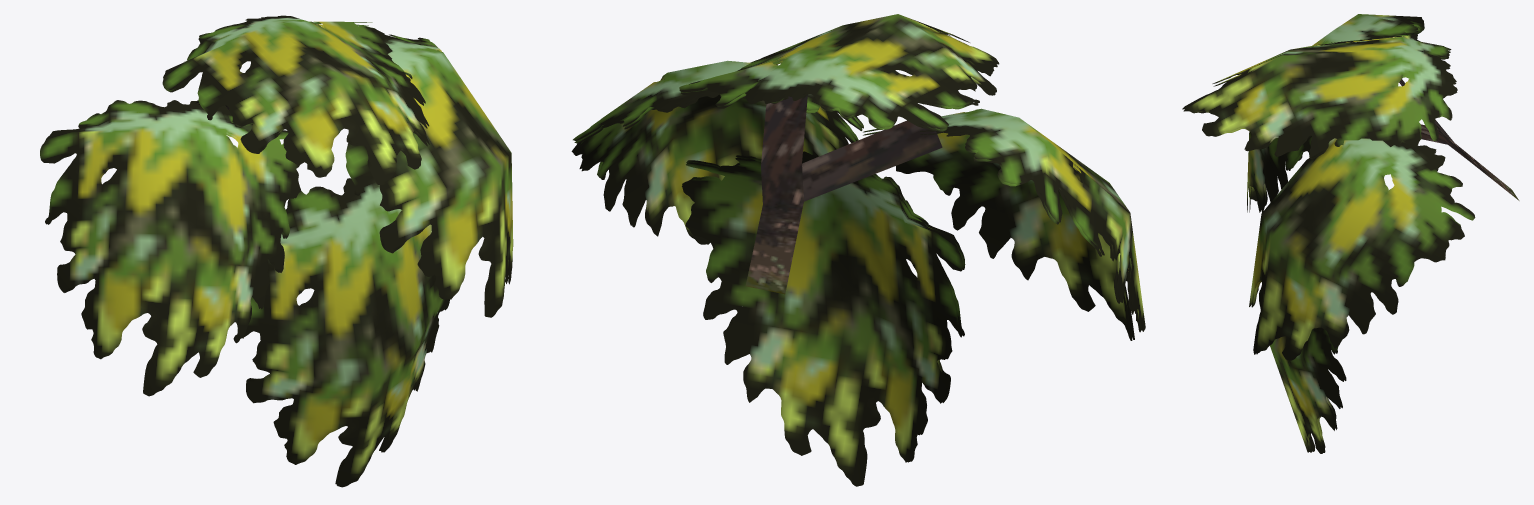
Rendered from foriage01_ds.fbx.
3 renders of one model, left to right at view 1: azimuth 30°, elevation 25°; view 2: azimuth 150°, elevation 25°; view 3: azimuth 270°, elevation 25°, orthographic. The views are drawn at different scales.
Visible parts, largest first — view 1: foriage01_ds; view 2: foriage01_ds; view 3: foriage01_ds.
Part boxes in pixels (x1,y1,x2,y2): foriage01_ds: [40, 15, 513, 487]; foriage01_ds: [571, 14, 1145, 486]; foriage01_ds: [1182, 14, 1519, 453].
Bounding box in the file's own units: 1.56 × 1.39 × 1.09.
